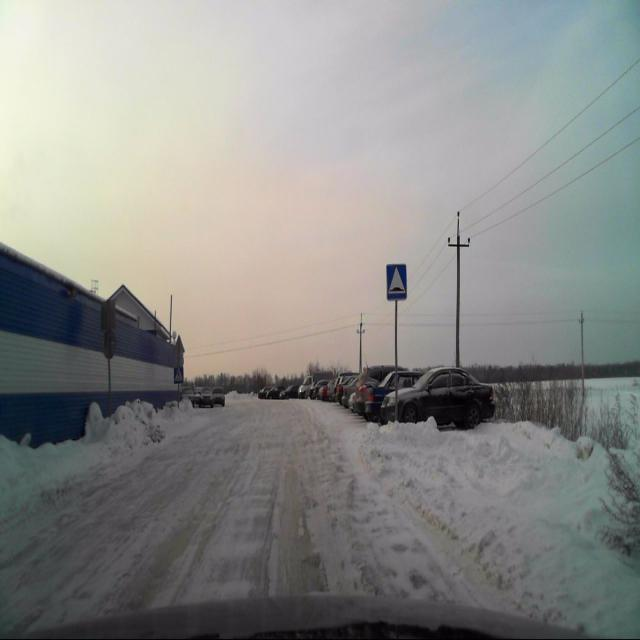object: (395, 300, 398, 424)
road sign: (386, 262, 406, 300), (174, 367, 183, 385)
